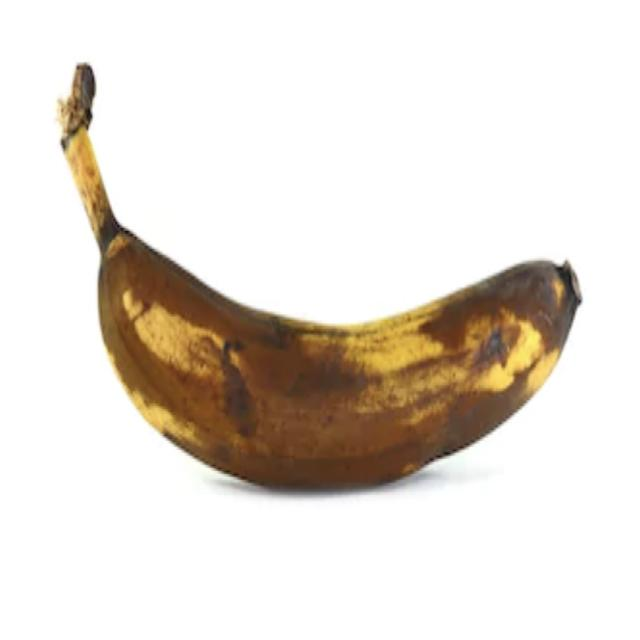rotten-banana: (55, 59, 582, 490)
